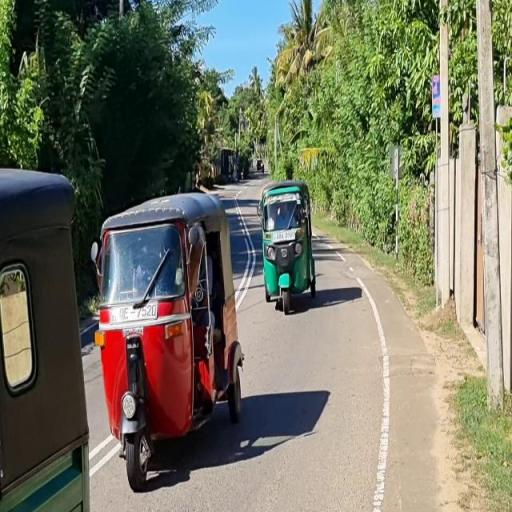double_white_line: (90, 432, 122, 475)
